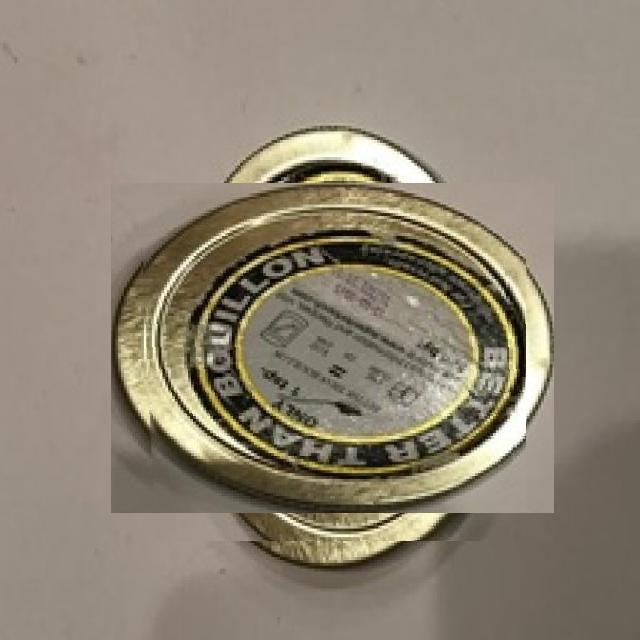recyclable: (138, 155, 526, 541)
